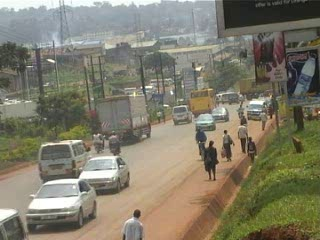Car: (26, 175, 97, 234), (76, 153, 132, 197), (193, 112, 219, 133), (208, 104, 230, 124)
Motorcycle: (107, 130, 123, 157), (88, 130, 104, 153), (236, 103, 249, 127)
